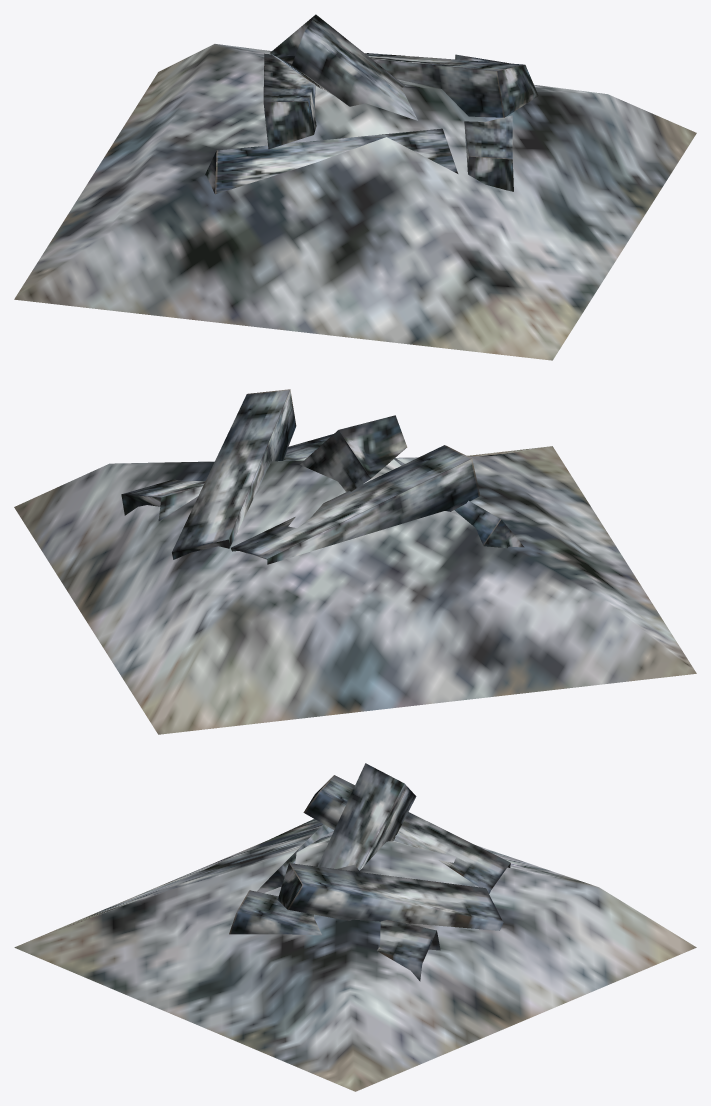
File: eqp_camping_log_smoldering_l2.fbx
3 renders of one model, top to bottom at view 1: azimuth 30°, elevation 25°; view 2: azimuth 150°, elevation 25°; view 3: azimuth 270°, elevation 25°, orthographic. The views are drawn at different scales.
Parts seen in each view (by area): view 1: mesh_node; view 2: mesh_node; view 3: mesh_node.
Part boxes in pixels (x1,y1,x2,y2): mesh_node: (14,14,696,360); mesh_node: (14,389,696,734); mesh_node: (14,763,696,1091).
Size of the model in its own units: 1.37 by 0.3651 by 1.37.
